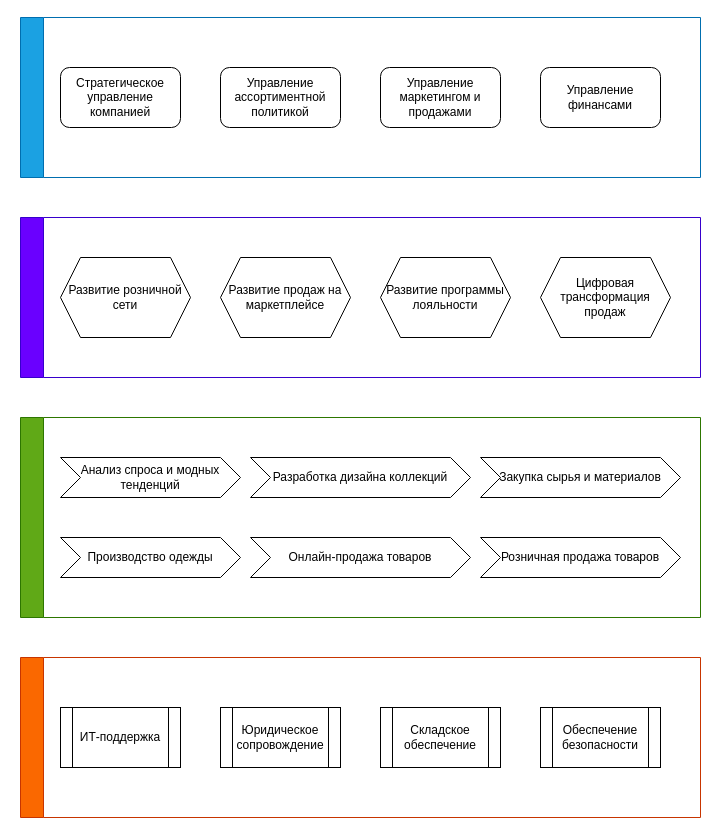
Some shapes in this 718 by 835 pixel diagram are drawn without their labels. The shapes that lost their labels are listed below. From the top down, each one's box as (x1, y1, x2, y2) in pixels, then its label:
(20, 16, 700, 178): Процессы управления
(20, 216, 700, 378): Процессы развития
(20, 416, 700, 618): Основные процессы
(20, 656, 700, 818): Обеспечивающие процессы
